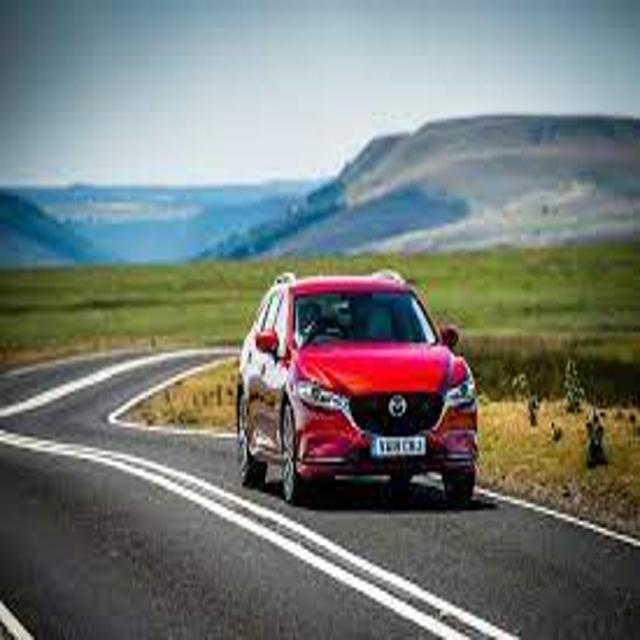car: (236, 271, 478, 502)
